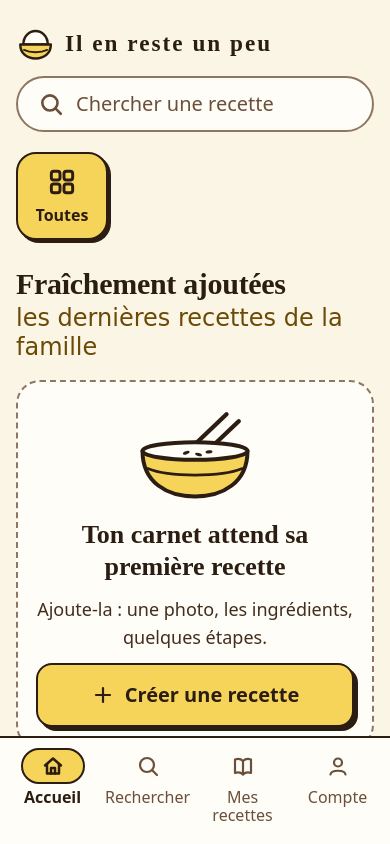
Test: the phone « + » of the shell › is back after an empty home page that hid it, when the next page needs it
This screenshot has width=390, height=844.
Expected: the heading "Ton carnet attend sa première recette" is shown, [82,520,308,581]
Click the link "Rechercher": {"x": 148, "y": 785} [101,746,194,824]
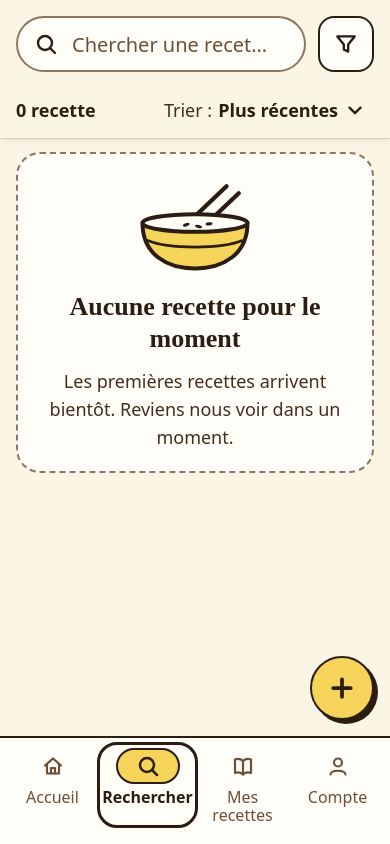
Expected: the link named "Nouvelle recette" is shown, [310,656,374,720]
